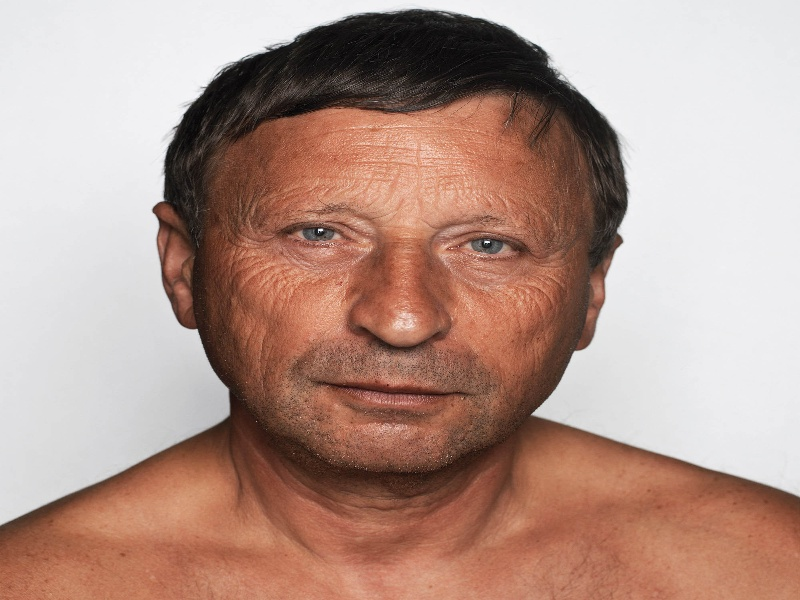face: (267, 200, 537, 416)
